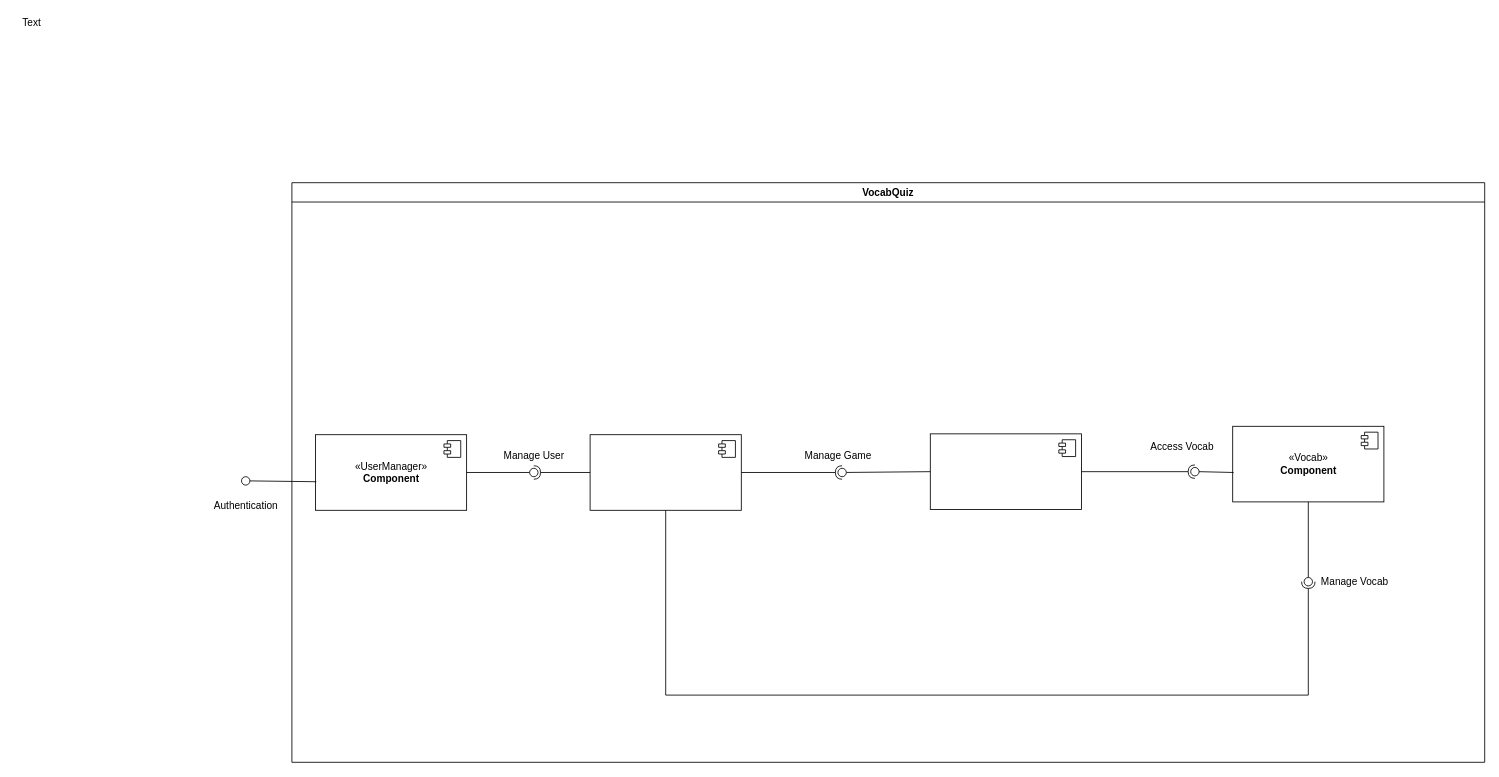
Image size: 1499x777. Some labels were removed from this diagram. The box of each missing label's shape, as (x1, y1, x2, y2) in pixels:
«Game» Component: (929, 433, 1082, 509)
«UI» Component: (589, 434, 741, 510)
